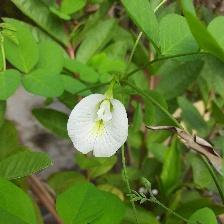shankupushpam: (67, 93, 132, 161)
